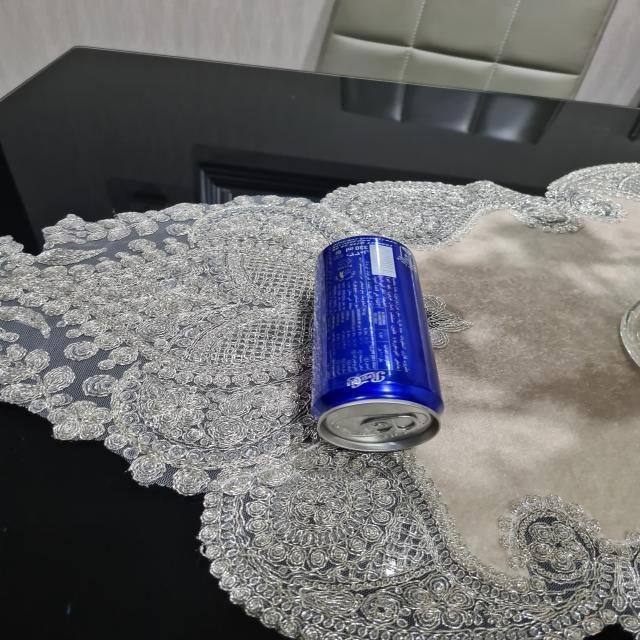can: (306, 232, 452, 456)
